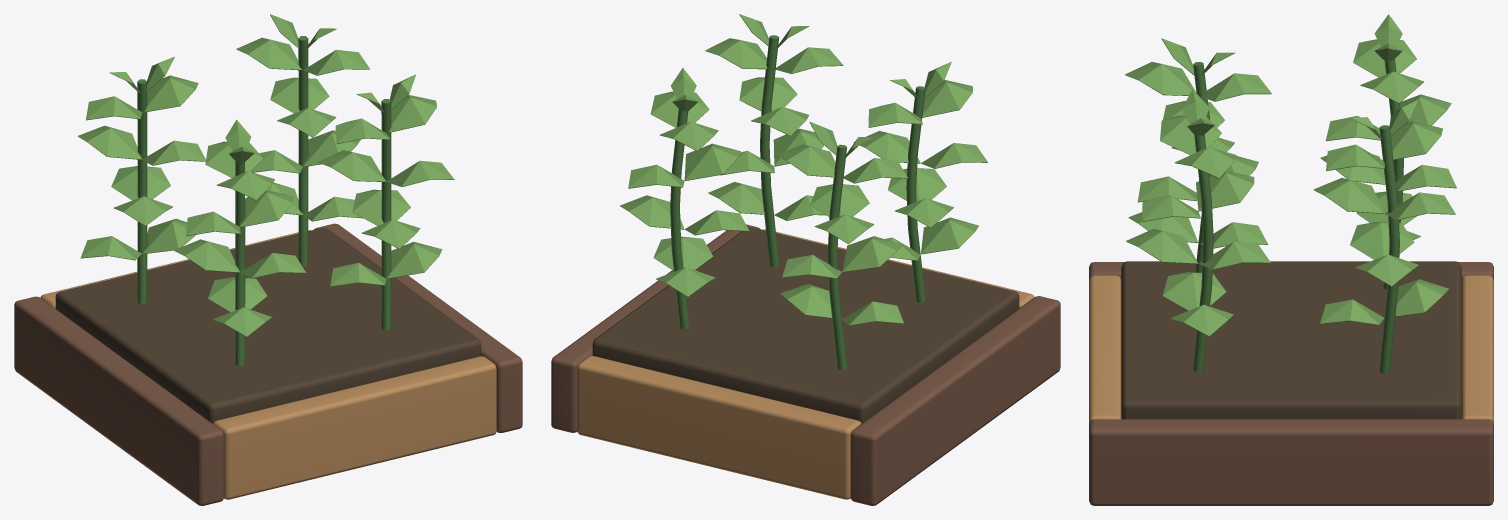
The model's file is garden.herb.melissa-wet.glb.
3 renders of one model, left to right at view 1: azimuth 30°, elevation 25°; view 2: azimuth 150°, elevation 25°; view 3: azimuth 270°, elevation 25°, orthographic. The views are drawn at different scales.
Visible parts, largest first — view 1: Cedar raised bed rail; view 2: Cedar raised bed rail; view 3: Cedar raised bed rail.
Boxes of the visible parts, x1=… form: Cedar raised bed rail: x1=14, y1=14, x2=522, y2=505; Cedar raised bed rail: x1=551, y1=14, x2=1060, y2=505; Cedar raised bed rail: x1=1089, y1=14, x2=1493, y2=505.
Bounding box in the file's own units: 1 × 0.9698 × 1.
